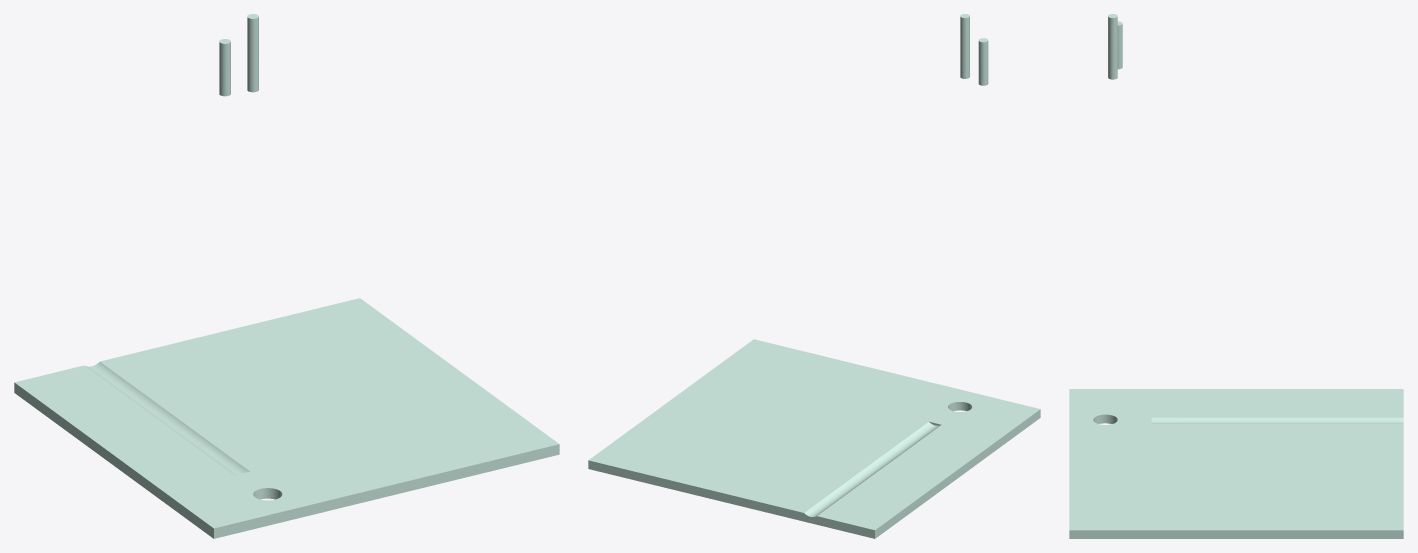
3 renders of one model, left to right at view 1: azimuth 30°, elevation 25°; view 2: azimuth 150°, elevation 25°; view 3: azimuth 270°, elevation 25°, orthographic. The views are drawn at different scales.
Visible parts, largest first — view 1: Renderer Node; view 2: Renderer Node; view 3: Renderer Node.
Boxes of the visible parts, x1=… form: Renderer Node: x1=14, y1=14, x2=559, y2=538; Renderer Node: x1=588, y1=14, x2=1040, y2=538; Renderer Node: x1=1069, y1=14, x2=1403, y2=538.
Bounding box in the file's own units: 0.5391 × 0.7266 × 0.5391.
